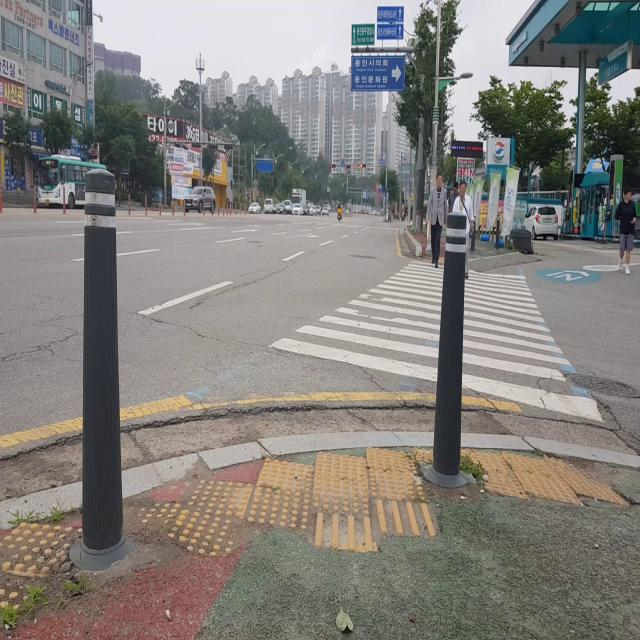횡단보도: (267, 256, 603, 425)
